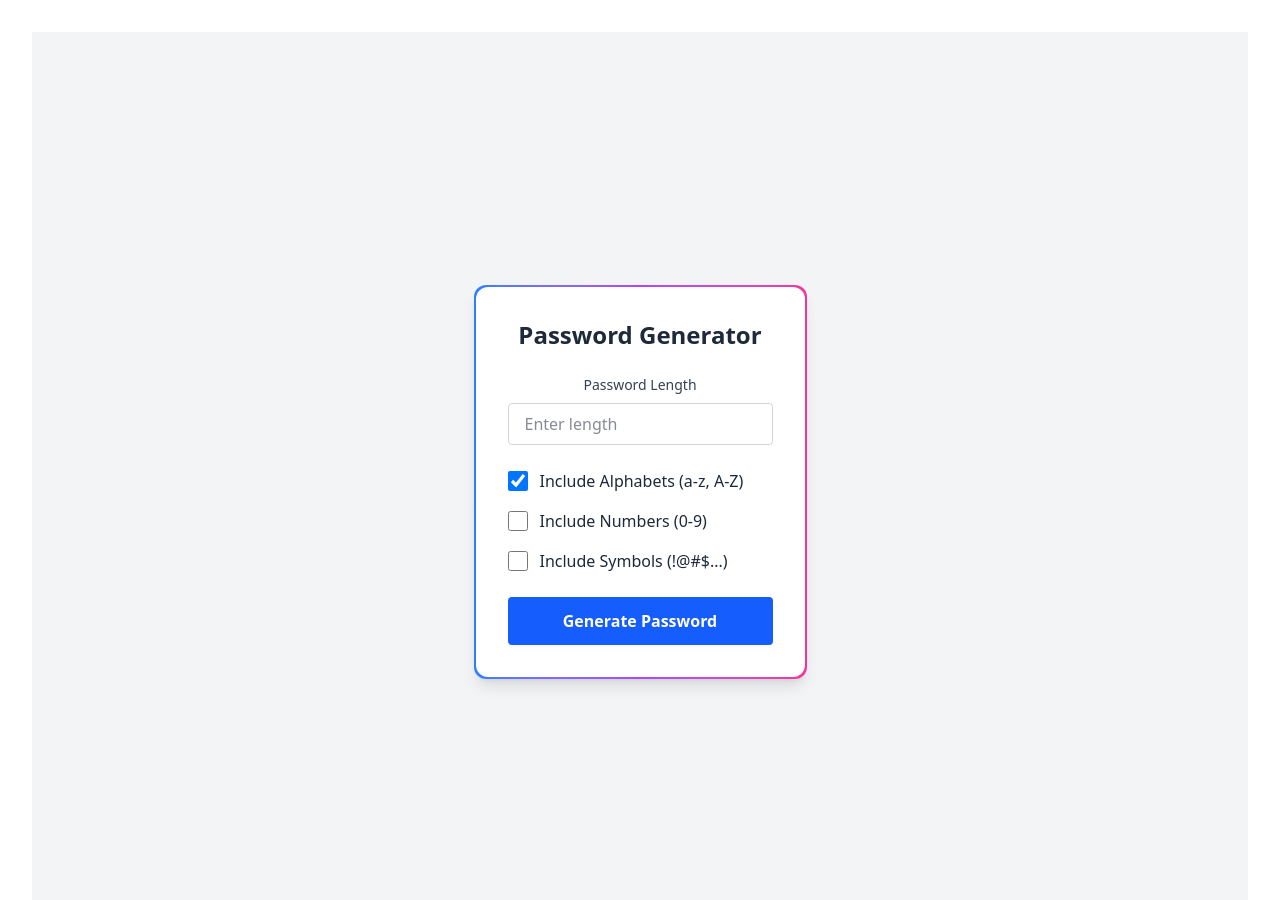
Password Component › shows error when no character sets are selected
The image size is (1280, 900).
Type "8" into the number field labelled "Password Length". click: (640, 424)
box: [508,403,772,445]
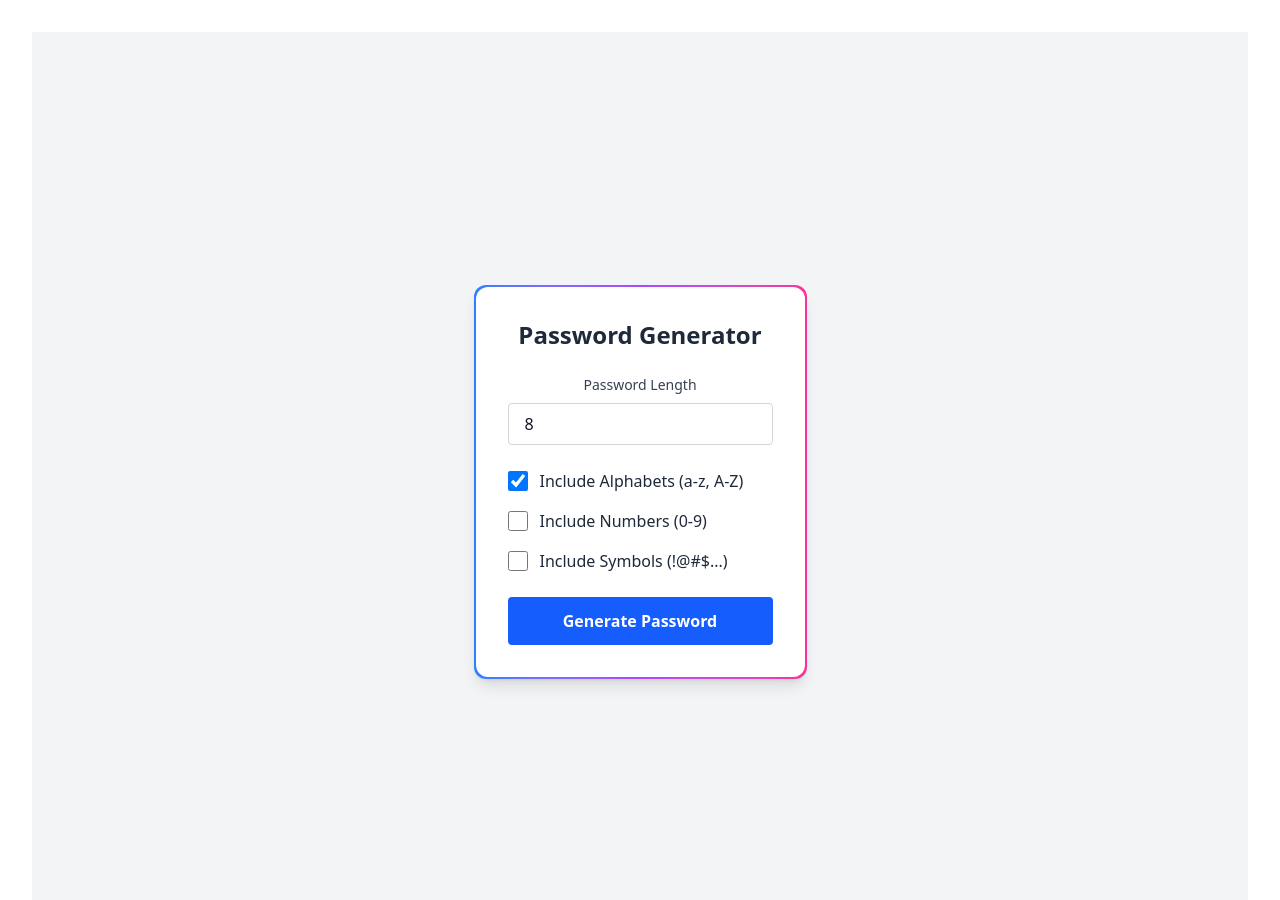
Click the checkbox labelled "Include Alphabets (a-z, A-Z)". click: (518, 481)
box: [508,471,528,491]
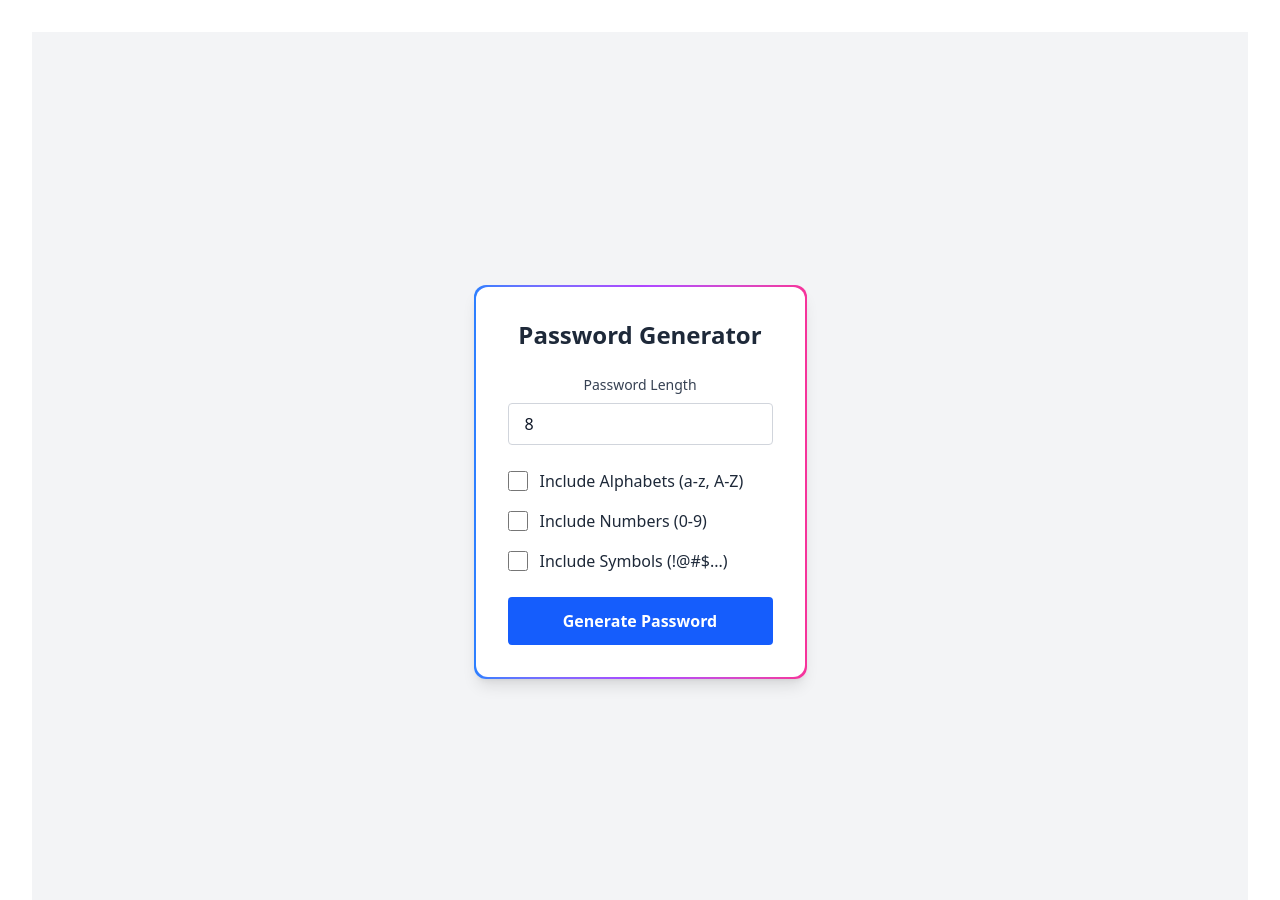
Click the button "Generate Password". click: (640, 621)
box: [508,597,772,645]
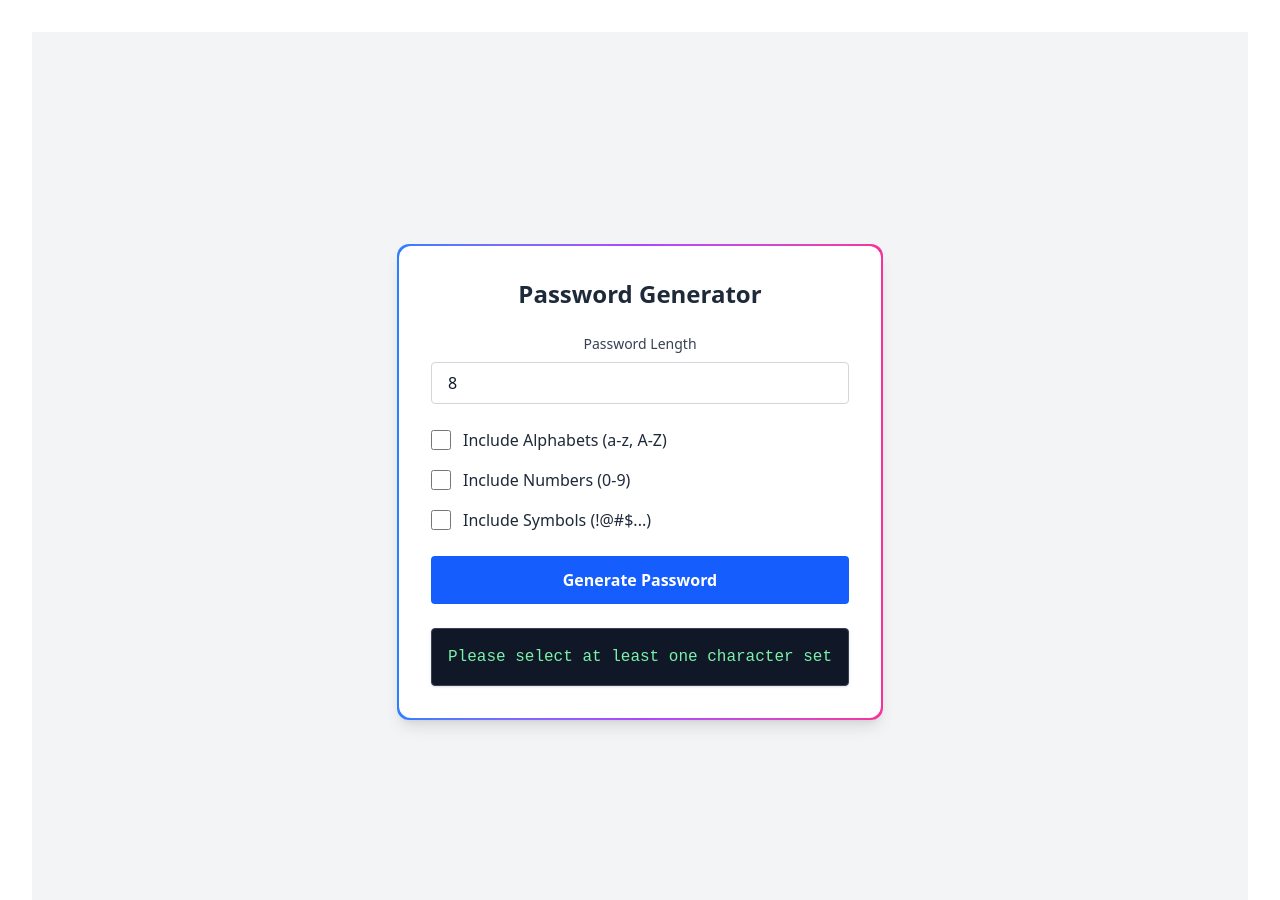
Check: the text "Please select at least one character set" is shown, box [431,628,849,686]
